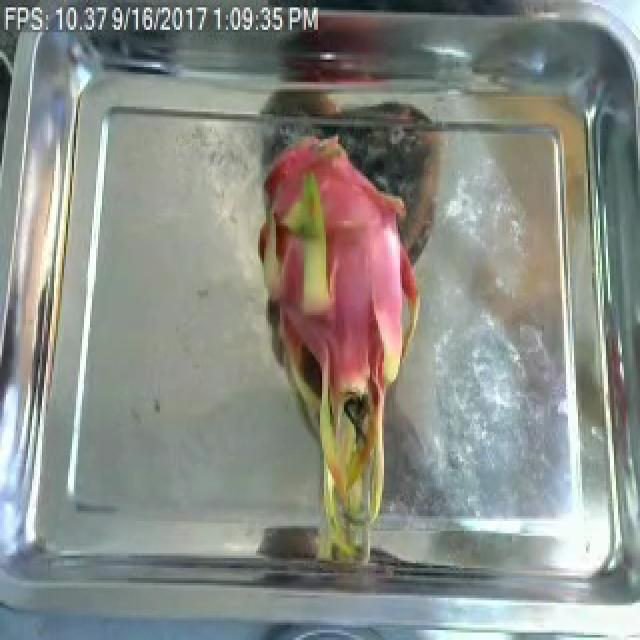fruit: (240, 137, 442, 570)
